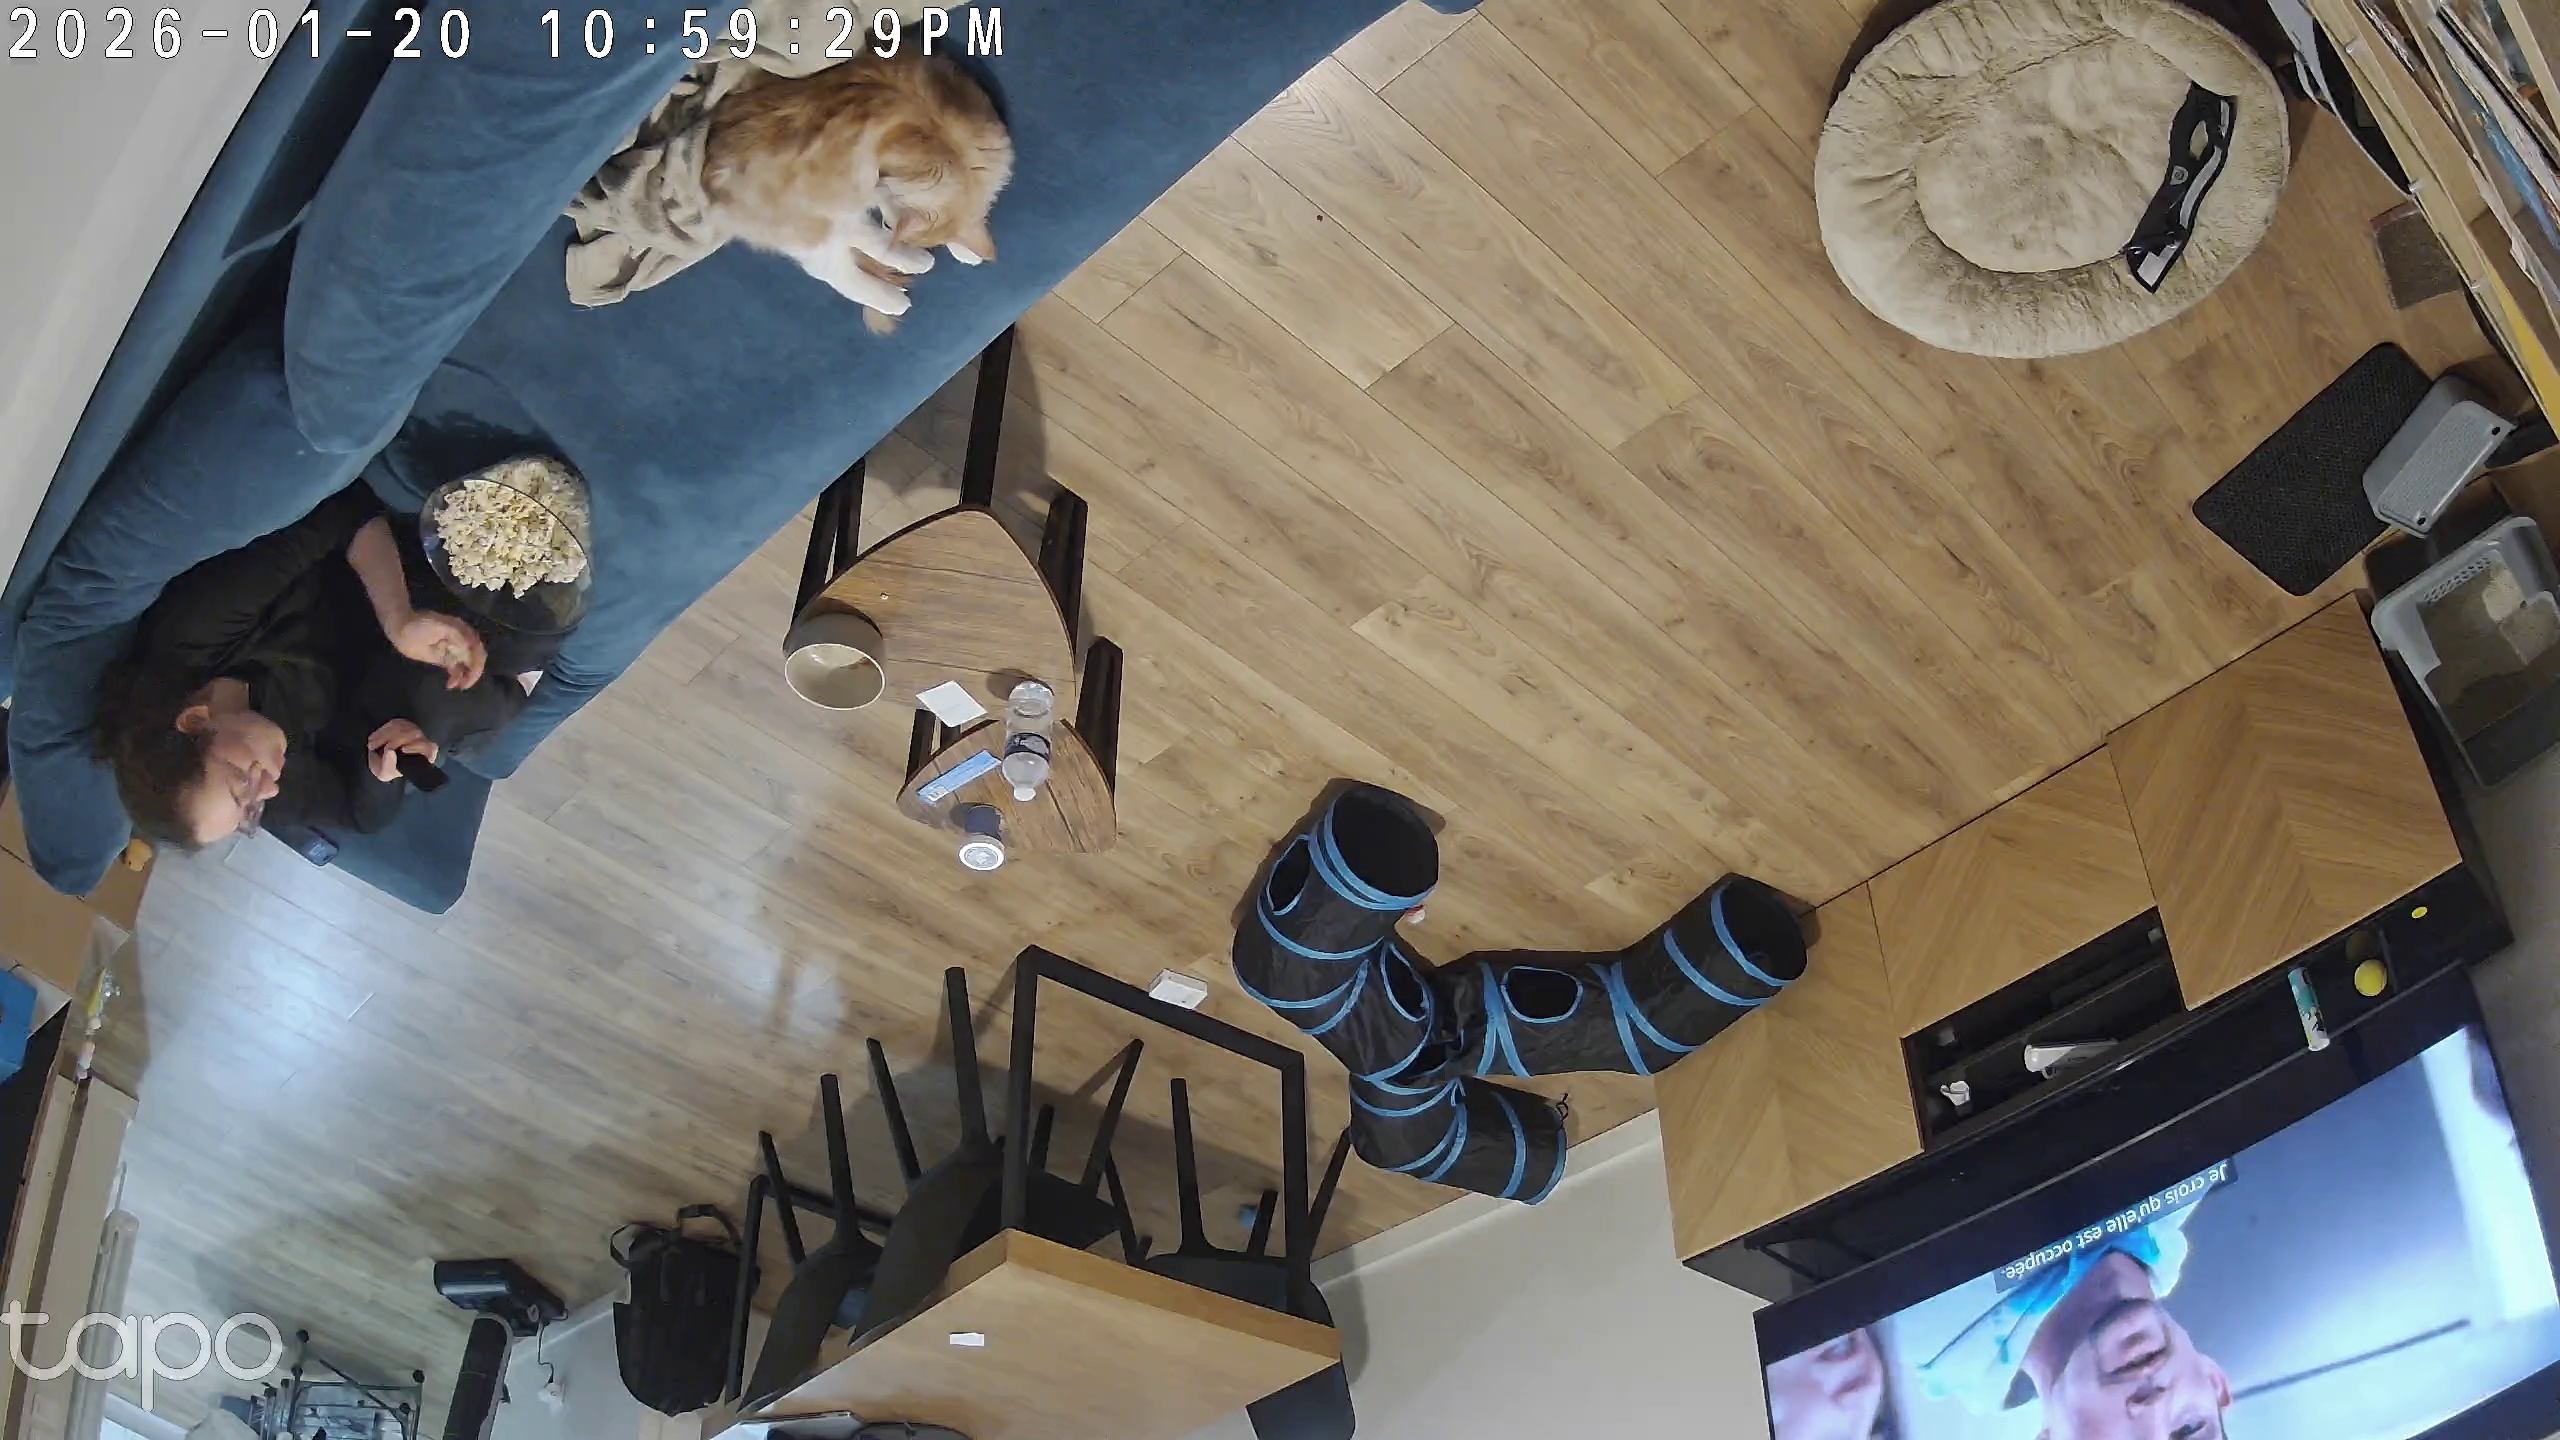Simba: (677, 26, 1032, 352)
